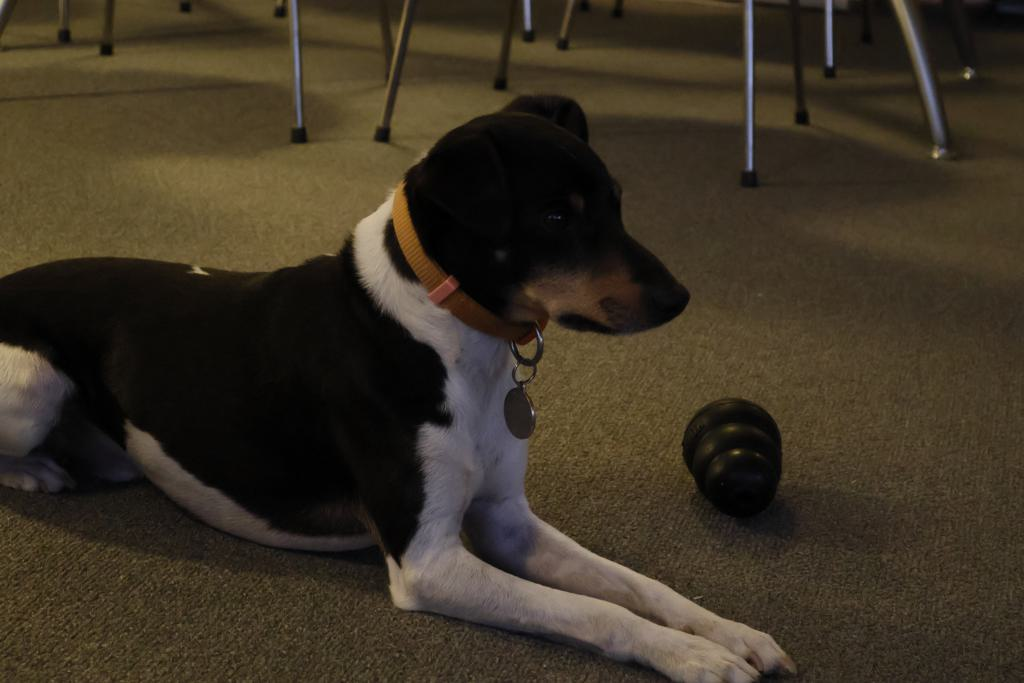Dog: (0, 86, 817, 683)
